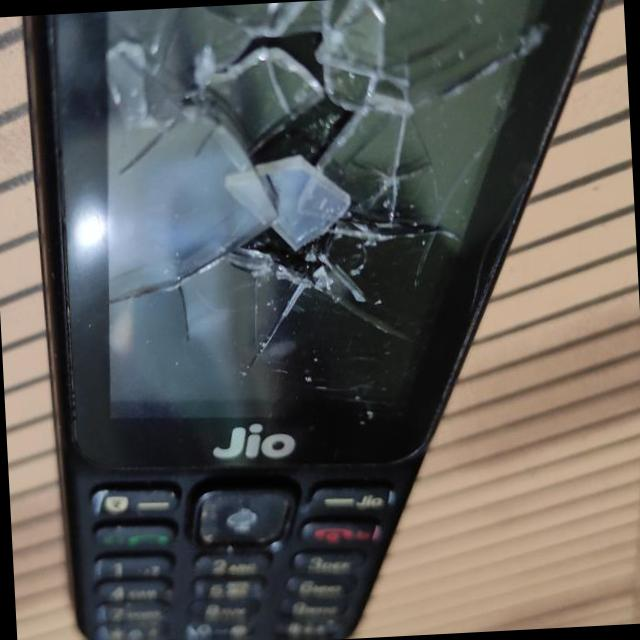screen crack: (81, 0, 573, 433)
